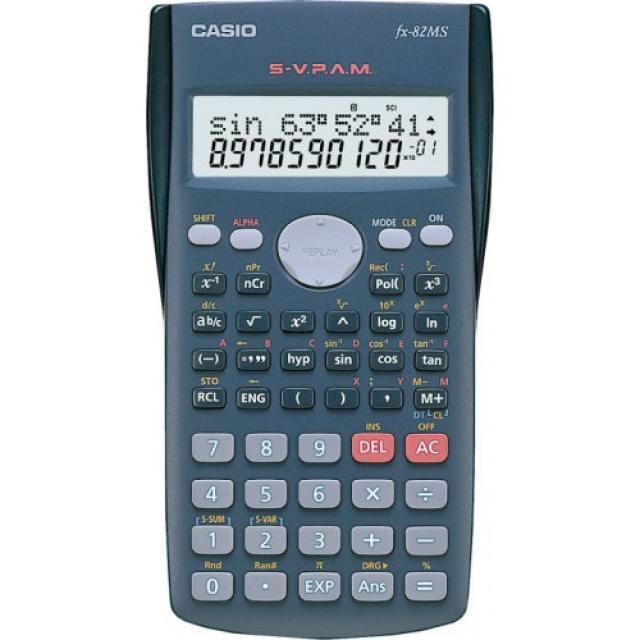Calculator: (142, 4, 500, 634)
